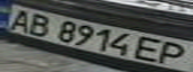1: (90, 25, 112, 53)
4: (112, 29, 136, 57)
8: (51, 17, 78, 44)
9: (69, 21, 97, 48)
A: (0, 7, 39, 33)
B: (21, 11, 57, 37)
E: (133, 34, 172, 63)
P: (154, 39, 193, 65)
